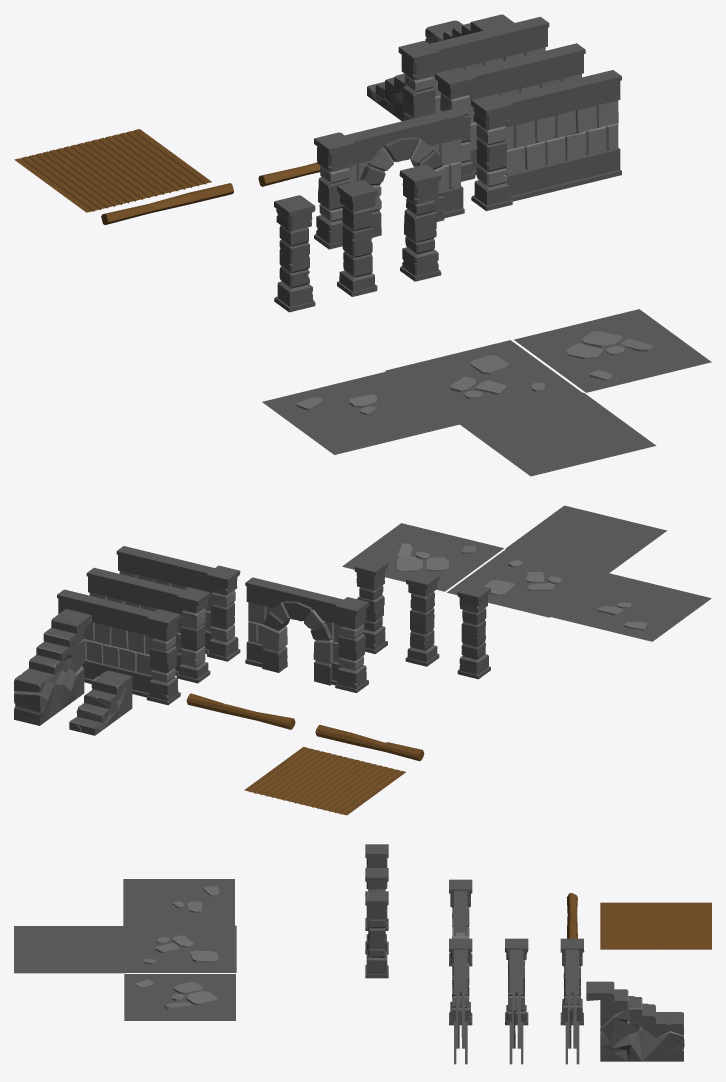
Rendered from dungeon_construct.fbx.
3 views of the same model, one above another, from view 1: azimuth 30°, elevation 25°; view 2: azimuth 150°, elevation 25°; view 3: azimuth 270°, elevation 25° (orthographic). The views are drawn at different scales.
Parts seen in each view (by area): view 1: Wall_3, Door, Plane.005, Stone_Floor_1, Stone_Floor_4, Stone_Floor_3, Stone_Floor_2, Wall_1, Wall_2, Columna3, Columna2, Columna1 (+3 smaller); view 2: Door, Wall_1, Plane.005, Stone_Floor_4, Stone_Floor_1, Stone_Step_2, Stone_Floor_2, Wall_3, Wall_2, Stone_Floor_3, Stone_Step_1, Columna2 (+4 smaller); view 3: Stone_Step_2, Plane.005, Stone_Floor_1, Stone_Floor_4, Stone_Floor_2, Stone_Floor_3, Wall_1, Wall_3, Wall_2, Columna3, Door, Columna1 (+2 smaller).
Boxes of the visible parts, <box> form: Wall_3: <box>471,70,621,210</box>; Door: <box>314,108,464,249</box>; Plane.005: <box>14,129,211,212</box>; Stone_Floor_1: <box>458,392,656,476</box>; Stone_Floor_4: <box>262,371,459,454</box>; Stone_Floor_3: <box>514,309,711,392</box>; Stone_Floor_2: <box>385,340,582,423</box>; Wall_1: <box>398,16,549,120</box>; Wall_2: <box>435,43,585,181</box>; Columna3: <box>399,164,441,281</box>; Columna2: <box>274,195,315,312</box>; Columna1: <box>337,180,377,296</box>; Door: <box>245,577,368,692</box>; Wall_1: <box>57,589,180,705</box>; Plane.005: <box>244,747,405,815</box>; Stone_Floor_4: <box>549,573,711,641</box>; Stone_Floor_1: <box>505,505,666,573</box>; Stone_Step_2: <box>14,609,91,725</box>; Stone_Floor_2: <box>447,549,607,617</box>; Wall_3: <box>116,546,240,661</box>; Wall_2: <box>86,567,210,683</box>; Stone_Floor_3: <box>342,523,503,591</box>; Stone_Step_1: <box>69,670,132,735</box>; Columna2: <box>457,583,490,679</box>; Stone_Step_2: <box>586,981,684,1061</box>; Plane.005: <box>600,902,711,949</box>; Stone_Floor_1: <box>14,926,125,973</box>; Stone_Floor_4: <box>123,879,234,926</box>; Stone_Floor_2: <box>125,925,236,972</box>; Stone_Floor_3: <box>124,974,235,1020</box>; Wall_1: <box>560,938,584,1064</box>; Wall_3: <box>449,938,472,1064</box>; Wall_2: <box>505,938,528,1064</box>; Columna3: <box>365,891,388,978</box>; Door: <box>449,879,472,966</box>; Columna1: <box>365,868,388,954</box>.
Size of the model in its own units: 1599 by 314 by 2500.
